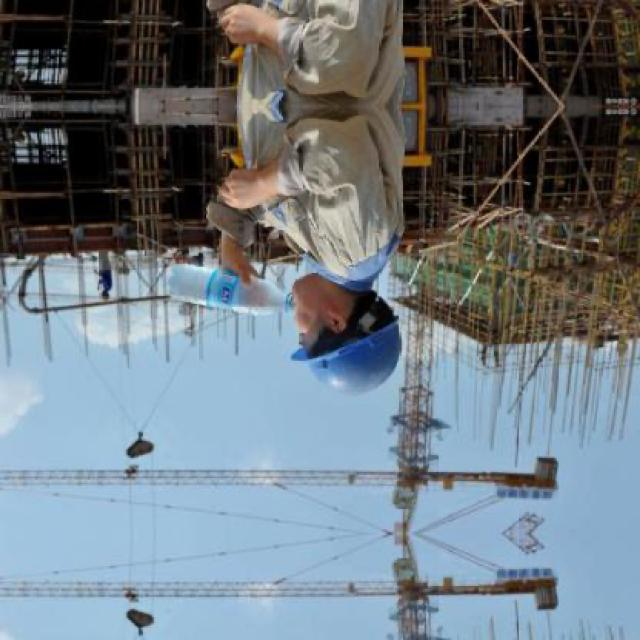con casco: (259, 236, 428, 412)
